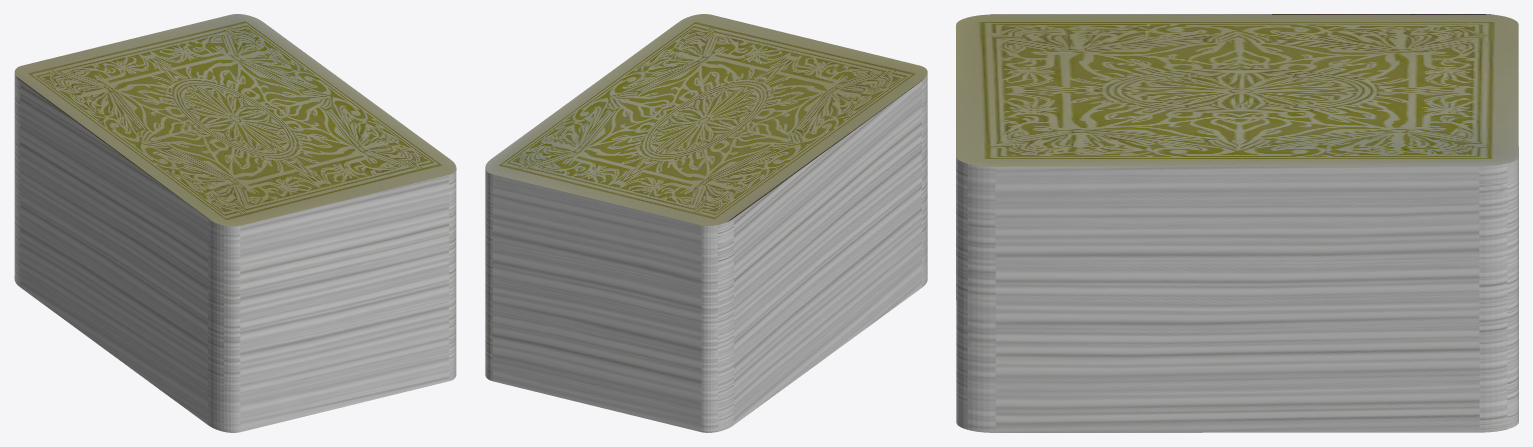
File: Deck.glb
The picture shows the model from 3 angles, left to right: view 1: azimuth 30°, elevation 25°; view 2: azimuth 150°, elevation 25°; view 3: azimuth 270°, elevation 25°; orthographic projection. The views are drawn at different scales.
Parts seen in each view (by area): view 1: Cube; view 2: Cube; view 3: Cube.
Part boxes in pixels (<box>): Cube: <box>14,14,456,432</box>; Cube: <box>485,14,927,432</box>; Cube: <box>956,14,1518,432</box>.
Size of the model in its own units: 0.0581 by 0.0474 by 0.0907.
2 materials, 2 textured.
